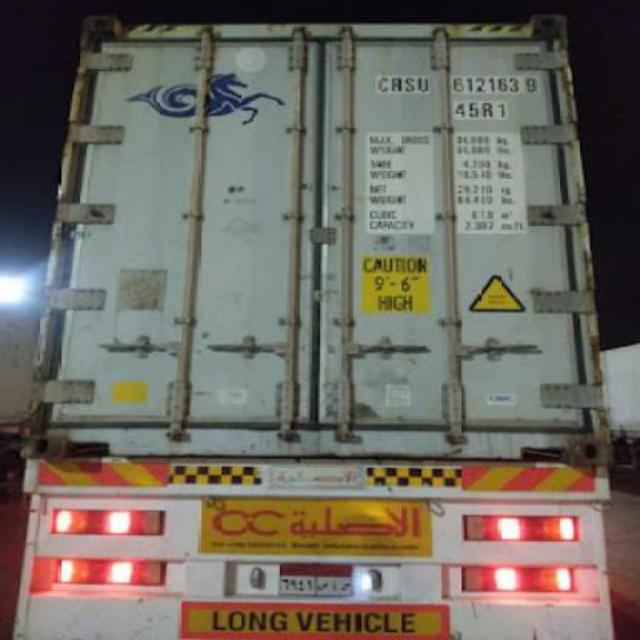1: (464, 76, 476, 94), (488, 78, 500, 94)
2: (474, 75, 488, 93)
3: (506, 76, 522, 94)
6: (496, 76, 509, 96), (452, 75, 466, 93)
9: (524, 76, 540, 94)
C: (376, 75, 389, 95)
R: (388, 74, 404, 96)
S: (404, 74, 418, 96)
U: (416, 74, 432, 96)
